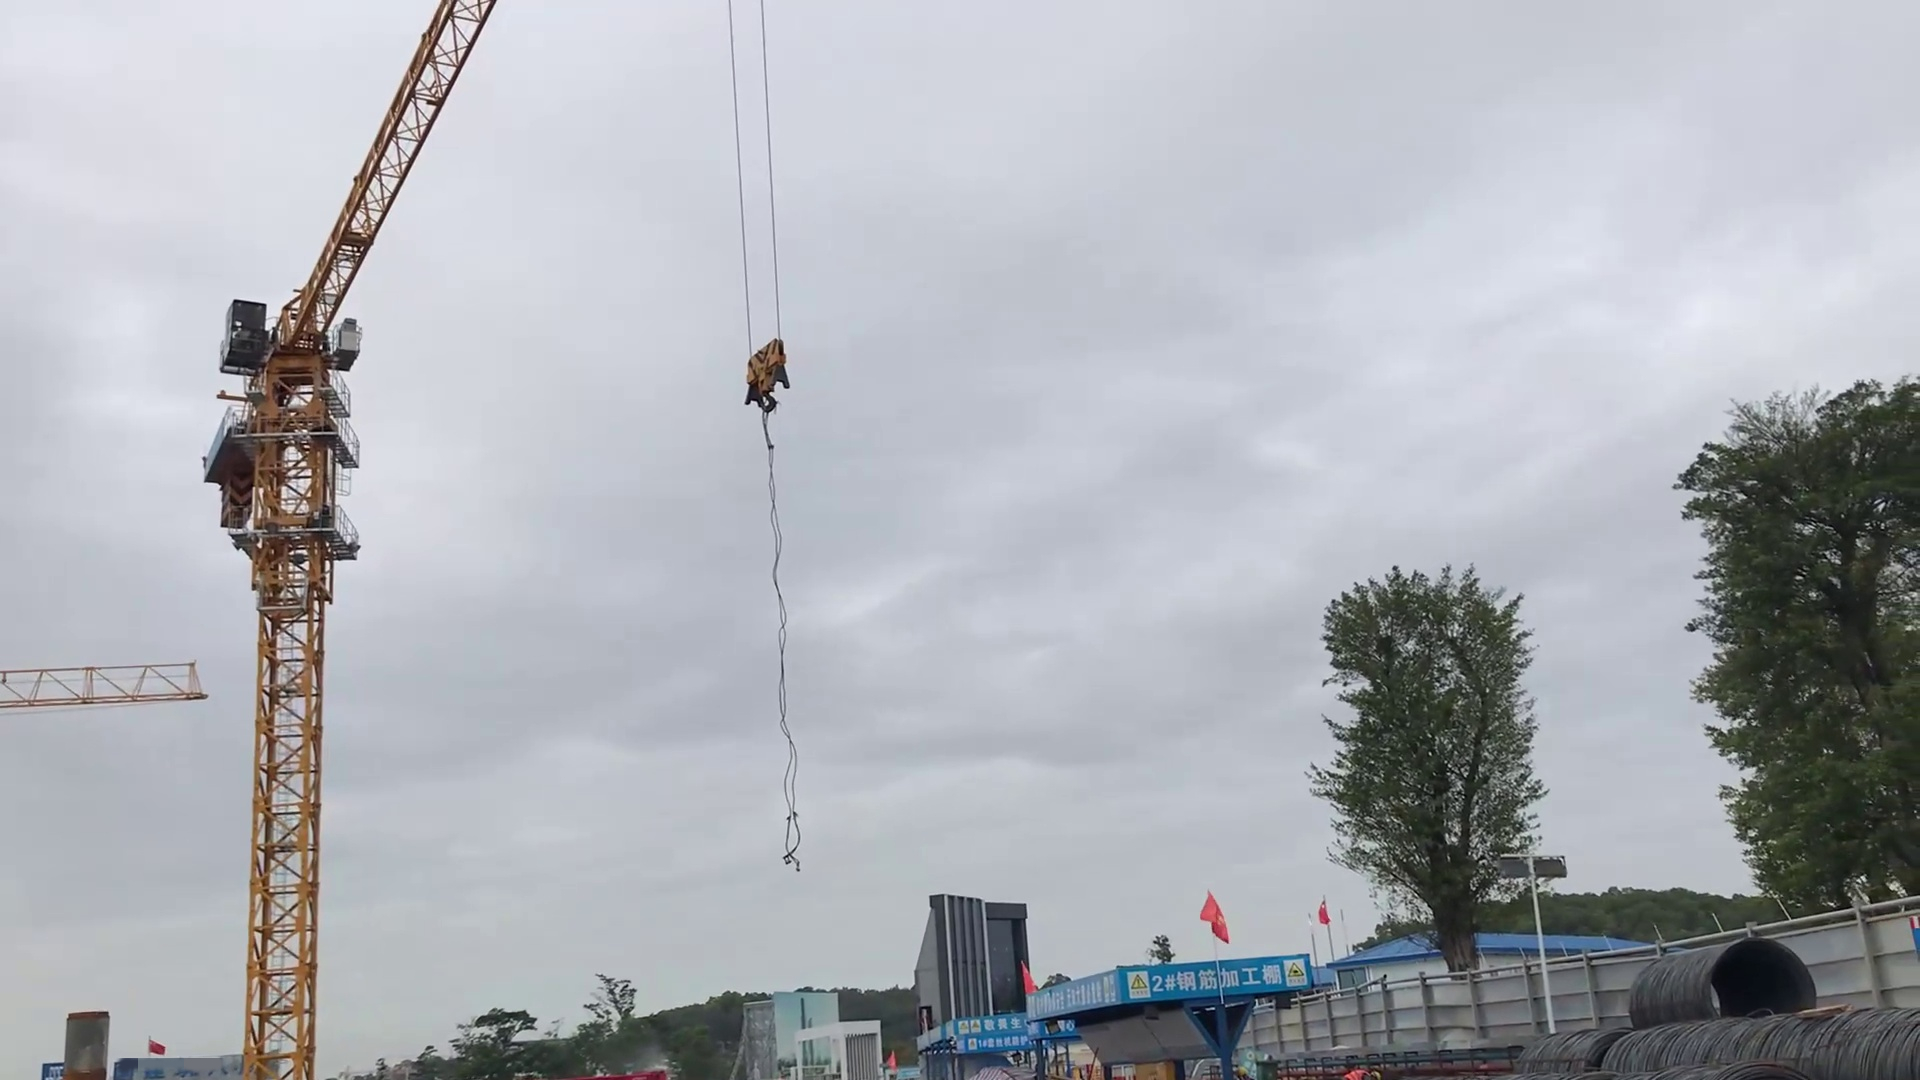hook: (736, 330, 798, 419)
